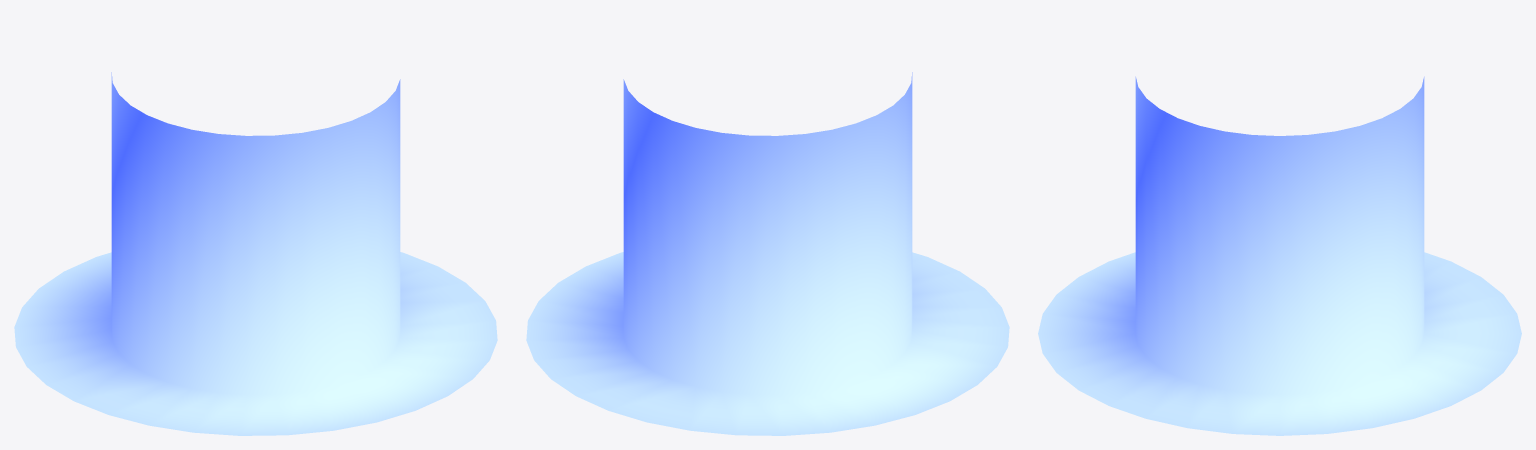
File: UI_Glow_Blue.gltf
The picture shows the model from 3 angles, left to right: view 1: azimuth 30°, elevation 25°; view 2: azimuth 150°, elevation 25°; view 3: azimuth 270°, elevation 25°; orthographic projection.
Visible parts, largest first — view 1: UI_Glow_Blue; view 2: UI_Glow_Blue; view 3: UI_Glow_Blue.
Part boxes in pixels (x1,y1,x2,y2): UI_Glow_Blue: (14, 72, 497, 435); UI_Glow_Blue: (526, 72, 1009, 435); UI_Glow_Blue: (1038, 76, 1521, 435).
Bounding box in the file's own units: 0.0599 × 0.0354 × 0.0599.
